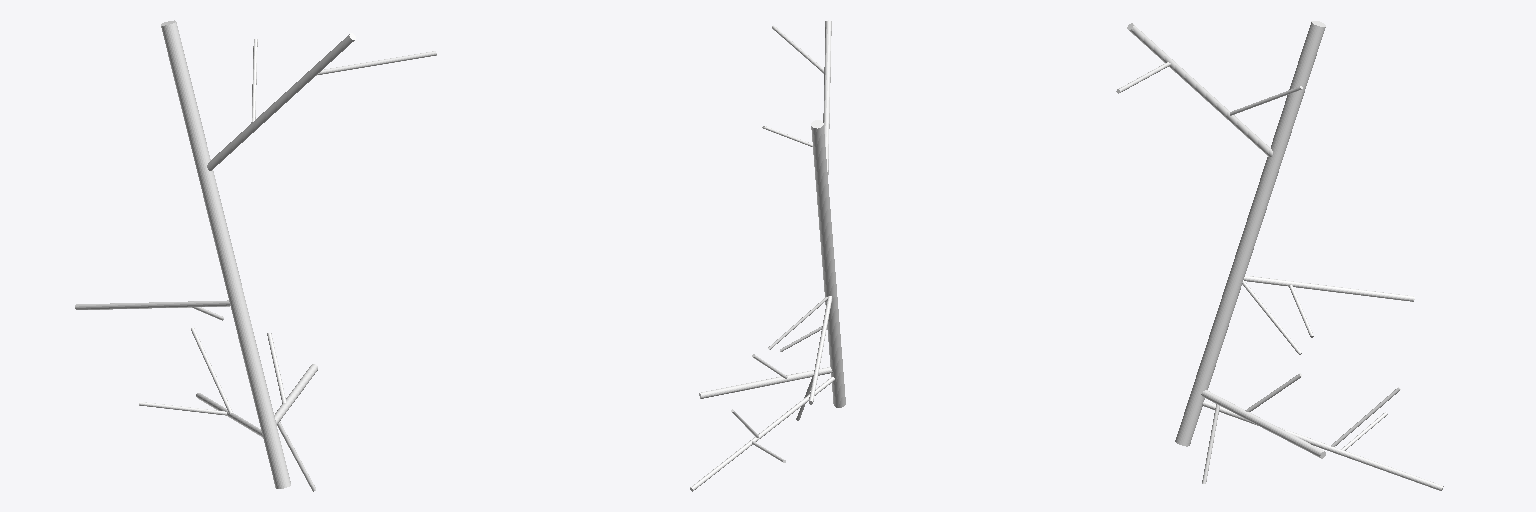
URDF robot description (tree_6.urdf):
<?xml version='1.0' encoding='UTF-8'?>
<robot name="tree_6.urdf">
  <link name="branch_0">
    <inertial>
      <origin xyz="0.0 0.0 0.0" rpy="0.0 -0.0 0.0"/>
      <mass value="1.0"/>
      <inertia ixx="1.0" ixy="0.0" ixz="0.0" iyy="1.0" iyz="0.0" izz="1.0"/>
    </inertial>
    <visual name="branch_0_visual">
      <geometry>
        <cylinder radius="0.1608283984455779" length="9.734576314490607"/>
      </geometry>
      <material name="branch_material"/>
      <origin xyz="-0.4961146037879636 1.4298258032563012 4.626009346932966" rpy="-1.3877787807814457e-17 0.31618527720153833 1.9047742276952224"/>
    </visual>
    <collision name="branch_0_collision">
      <geometry>
        <cylinder radius="0.1608283984455779" length="9.734576314490607"/>
      </geometry>
      <origin xyz="-0.4961146037879636 1.4298258032563012 4.626009346932966" rpy="-1.3877787807814457e-17 0.31618527720153833 1.9047742276952224"/>
    </collision>
  </link>
  <link name="branch_1">
    <inertial>
      <origin xyz="0.0 0.0 0.0" rpy="0.0 -0.0 0.0"/>
      <mass value="1.0"/>
      <inertia ixx="1.0" ixy="0.0" ixz="0.0" iyy="1.0" iyz="0.0" izz="1.0"/>
    </inertial>
    <visual name="branch_1_visual">
      <geometry>
        <cylinder radius="0.06062844235902978" length="4.209955104890477"/>
      </geometry>
      <material name="branch_material"/>
      <origin xyz="0.0 0.0 0.0" rpy="0.0 -0.0 0.0"/>
    </visual>
    <collision name="branch_1_collision">
      <geometry>
        <cylinder radius="0.06062844235902978" length="4.209955104890477"/>
      </geometry>
      <origin xyz="0.0 0.0 0.0" rpy="0.0 -0.0 0.0"/>
    </collision>
  </link>
  <link name="branch_2">
    <inertial>
      <origin xyz="0.0 0.0 0.0" rpy="0.0 -0.0 0.0"/>
      <mass value="1.0"/>
      <inertia ixx="1.0" ixy="0.0" ixz="0.0" iyy="1.0" iyz="0.0" izz="1.0"/>
    </inertial>
    <visual name="branch_2_visual">
      <geometry>
        <cylinder radius="0.04" length="1.356113058148896"/>
      </geometry>
      <material name="branch_material"/>
      <origin xyz="0.0 0.0 0.0" rpy="0.0 -0.0 0.0"/>
    </visual>
    <collision name="branch_2_collision">
      <geometry>
        <cylinder radius="0.04" length="1.356113058148896"/>
      </geometry>
      <origin xyz="0.0 0.0 0.0" rpy="0.0 -0.0 0.0"/>
    </collision>
  </link>
  <link name="branch_3">
    <inertial>
      <origin xyz="0.0 0.0 0.0" rpy="0.0 -0.0 0.0"/>
      <mass value="1.0"/>
      <inertia ixx="1.0" ixy="0.0" ixz="0.0" iyy="1.0" iyz="0.0" izz="1.0"/>
    </inertial>
    <visual name="branch_3_visual">
      <geometry>
        <cylinder radius="0.04" length="2.101444616784861"/>
      </geometry>
      <material name="branch_material"/>
      <origin xyz="0.0 0.0 0.0" rpy="0.0 -0.0 0.0"/>
    </visual>
    <collision name="branch_3_collision">
      <geometry>
        <cylinder radius="0.04" length="2.101444616784861"/>
      </geometry>
      <origin xyz="0.0 0.0 0.0" rpy="0.0 -0.0 0.0"/>
    </collision>
  </link>
  <link name="branch_4">
    <inertial>
      <origin xyz="0.0 0.0 0.0" rpy="0.0 -0.0 0.0"/>
      <mass value="1.0"/>
      <inertia ixx="1.0" ixy="0.0" ixz="0.0" iyy="1.0" iyz="0.0" izz="1.0"/>
    </inertial>
    <visual name="branch_4_visual">
      <geometry>
        <cylinder radius="0.08116138452471643" length="5.128200156553887"/>
      </geometry>
      <material name="branch_material"/>
      <origin xyz="0.0 0.0 0.0" rpy="0.0 -0.0 0.0"/>
    </visual>
    <collision name="branch_4_collision">
      <geometry>
        <cylinder radius="0.08116138452471643" length="5.128200156553887"/>
      </geometry>
      <origin xyz="0.0 0.0 0.0" rpy="0.0 -0.0 0.0"/>
    </collision>
  </link>
  <link name="branch_5">
    <inertial>
      <origin xyz="0.0 0.0 0.0" rpy="0.0 -0.0 0.0"/>
      <mass value="1.0"/>
      <inertia ixx="1.0" ixy="0.0" ixz="0.0" iyy="1.0" iyz="0.0" izz="1.0"/>
    </inertial>
    <visual name="branch_5_visual">
      <geometry>
        <cylinder radius="0.04" length="2.1039477336618075"/>
      </geometry>
      <material name="branch_material"/>
      <origin xyz="0.0 0.0 0.0" rpy="0.0 -0.0 0.0"/>
    </visual>
    <collision name="branch_5_collision">
      <geometry>
        <cylinder radius="0.04" length="2.1039477336618075"/>
      </geometry>
      <origin xyz="0.0 0.0 0.0" rpy="0.0 -0.0 0.0"/>
    </collision>
  </link>
  <link name="branch_6">
    <inertial>
      <origin xyz="0.0 0.0 0.0" rpy="0.0 -0.0 0.0"/>
      <mass value="1.0"/>
      <inertia ixx="1.0" ixy="0.0" ixz="0.0" iyy="1.0" iyz="0.0" izz="1.0"/>
    </inertial>
    <visual name="branch_6_visual">
      <geometry>
        <cylinder radius="0.046905329725305527" length="2.5132590105739627"/>
      </geometry>
      <material name="branch_material"/>
      <origin xyz="0.0 0.0 0.0" rpy="0.0 -0.0 0.0"/>
    </visual>
    <collision name="branch_6_collision">
      <geometry>
        <cylinder radius="0.046905329725305527" length="2.5132590105739627"/>
      </geometry>
      <origin xyz="0.0 0.0 0.0" rpy="0.0 -0.0 0.0"/>
    </collision>
  </link>
  <link name="branch_7">
    <inertial>
      <origin xyz="0.0 0.0 0.0" rpy="0.0 -0.0 0.0"/>
      <mass value="1.0"/>
      <inertia ixx="1.0" ixy="0.0" ixz="0.0" iyy="1.0" iyz="0.0" izz="1.0"/>
    </inertial>
    <visual name="branch_7_visual">
      <geometry>
        <cylinder radius="0.08354199693159614" length="3.6362954872447584"/>
      </geometry>
      <material name="branch_material"/>
      <origin xyz="0.0 0.0 0.0" rpy="0.0 -0.0 0.0"/>
    </visual>
    <collision name="branch_7_collision">
      <geometry>
        <cylinder radius="0.08354199693159614" length="3.6362954872447584"/>
      </geometry>
      <origin xyz="0.0 0.0 0.0" rpy="0.0 -0.0 0.0"/>
    </collision>
  </link>
  <link name="branch_8">
    <inertial>
      <origin xyz="0.0 0.0 0.0" rpy="0.0 -0.0 0.0"/>
      <mass value="1.0"/>
      <inertia ixx="1.0" ixy="0.0" ixz="0.0" iyy="1.0" iyz="0.0" izz="1.0"/>
    </inertial>
    <visual name="branch_8_visual">
      <geometry>
        <cylinder radius="0.043903212722607825" length="1.7687678297567897"/>
      </geometry>
      <material name="branch_material"/>
      <origin xyz="0.0 0.0 0.0" rpy="0.0 -0.0 0.0"/>
    </visual>
    <collision name="branch_8_collision">
      <geometry>
        <cylinder radius="0.043903212722607825" length="1.7687678297567897"/>
      </geometry>
      <origin xyz="0.0 0.0 0.0" rpy="0.0 -0.0 0.0"/>
    </collision>
  </link>
  <link name="branch_9">
    <inertial>
      <origin xyz="0.0 0.0 0.0" rpy="0.0 -0.0 0.0"/>
      <mass value="1.0"/>
      <inertia ixx="1.0" ixy="0.0" ixz="0.0" iyy="1.0" iyz="0.0" izz="1.0"/>
    </inertial>
    <visual name="branch_9_visual">
      <geometry>
        <cylinder radius="0.045248686271037834" length="1.6228817295243358"/>
      </geometry>
      <material name="branch_material"/>
      <origin xyz="0.0 0.0 0.0" rpy="0.0 -0.0 0.0"/>
    </visual>
    <collision name="branch_9_collision">
      <geometry>
        <cylinder radius="0.045248686271037834" length="1.6228817295243358"/>
      </geometry>
      <origin xyz="0.0 0.0 0.0" rpy="0.0 -0.0 0.0"/>
    </collision>
  </link>
  <link name="branch_10">
    <inertial>
      <origin xyz="0.0 0.0 0.0" rpy="0.0 -0.0 0.0"/>
      <mass value="1.0"/>
      <inertia ixx="1.0" ixy="0.0" ixz="0.0" iyy="1.0" iyz="0.0" izz="1.0"/>
    </inertial>
    <visual name="branch_10_visual">
      <geometry>
        <cylinder radius="0.06063546841153954" length="5.51865027542374"/>
      </geometry>
      <material name="branch_material"/>
      <origin xyz="0.0 0.0 0.0" rpy="0.0 -0.0 0.0"/>
    </visual>
    <collision name="branch_10_collision">
      <geometry>
        <cylinder radius="0.06063546841153954" length="5.51865027542374"/>
      </geometry>
      <origin xyz="0.0 0.0 0.0" rpy="0.0 -0.0 0.0"/>
    </collision>
  </link>
  <link name="branch_11">
    <inertial>
      <origin xyz="0.0 0.0 0.0" rpy="0.0 -0.0 0.0"/>
      <mass value="1.0"/>
      <inertia ixx="1.0" ixy="0.0" ixz="0.0" iyy="1.0" iyz="0.0" izz="1.0"/>
    </inertial>
    <visual name="branch_11_visual">
      <geometry>
        <cylinder radius="0.04" length="1.7995088704729048"/>
      </geometry>
      <material name="branch_material"/>
      <origin xyz="0.0 0.0 0.0" rpy="0.0 -0.0 0.0"/>
    </visual>
    <collision name="branch_11_collision">
      <geometry>
        <cylinder radius="0.04" length="1.7995088704729048"/>
      </geometry>
      <origin xyz="0.0 0.0 0.0" rpy="0.0 -0.0 0.0"/>
    </collision>
  </link>
  <link name="branch_12">
    <inertial>
      <origin xyz="0.0 0.0 0.0" rpy="0.0 -0.0 0.0"/>
      <mass value="1.0"/>
      <inertia ixx="1.0" ixy="0.0" ixz="0.0" iyy="1.0" iyz="0.0" izz="1.0"/>
    </inertial>
    <visual name="branch_12_visual">
      <geometry>
        <cylinder radius="0.04" length="1.9887768254569558"/>
      </geometry>
      <material name="branch_material"/>
      <origin xyz="0.0 0.0 0.0" rpy="0.0 -0.0 0.0"/>
    </visual>
    <collision name="branch_12_collision">
      <geometry>
        <cylinder radius="0.04" length="1.9887768254569558"/>
      </geometry>
      <origin xyz="0.0 0.0 0.0" rpy="0.0 -0.0 0.0"/>
    </collision>
  </link>
  <joint name="joint_0_1" type="fixed">
    <parent link="branch_0"/>
    <child link="branch_1"/>
    <axis xyz="1. 0. 0."/>
    <origin xyz="-1.1696554495322828 2.988903167446083 3.046671355840766" rpy="3.0782501040496655 1.2741141522378976 -1.2407960228477224"/>
  </joint>
  <joint name="joint_0_4" type="fixed">
    <parent link="branch_0"/>
    <child link="branch_4"/>
    <axis xyz="1. 0. 0."/>
    <origin xyz="0.1408729514891609 0.4274271998630466 8.197194416720338" rpy="-0.05154937022524289 0.7366680759252435 -1.1544564635446004"/>
  </joint>
  <joint name="joint_0_7" type="fixed">
    <parent link="branch_0"/>
    <child link="branch_7"/>
    <axis xyz="1. 0. 0."/>
    <origin xyz="1.140736926786908 1.6548201201271275 1.0041395996092866" rpy="-1.866751658927541 1.2763926711696991 -1.0568279440857282"/>
  </joint>
  <joint name="joint_0_10" type="fixed">
    <parent link="branch_0"/>
    <child link="branch_10"/>
    <axis xyz="1. 0. 0."/>
    <origin xyz="0.5535976204427574 2.8740279551571306 0.2250156979863116" rpy="-2.5740840581209565 1.25859765442474 -1.228665650251958"/>
  </joint>
  <joint name="joint_1_2" type="fixed">
    <parent link="branch_0"/>
    <child link="branch_2"/>
    <axis xyz="1. 0. 0."/>
    <origin xyz="-0.3449690840715326 2.486632608900631 2.919509903099291" rpy="-2.163095903746344 -0.1940009056203867 -1.0117495162233736"/>
  </joint>
  <joint name="joint_1_3" type="fixed">
    <parent link="branch_0"/>
    <child link="branch_3"/>
    <axis xyz="1. 0. 0."/>
    <origin xyz="0.12343625411628627 1.8355785856000502 3.0093302774890875" rpy="-2.215191474737906 0.02680853315093155 -0.7213263754674027"/>
  </joint>
  <joint name="joint_4_5" type="fixed">
    <parent link="branch_0"/>
    <child link="branch_5"/>
    <axis xyz="1. 0. 0."/>
    <origin xyz="0.3293348604696904 1.727901871491578 8.073938196546353" rpy="0.7775012038809532 0.7739142861348068 1.9750715242259091"/>
  </joint>
  <joint name="joint_4_6" type="fixed">
    <parent link="branch_0"/>
    <child link="branch_6"/>
    <axis xyz="1. 0. 0."/>
    <origin xyz="1.620450634869498 -0.7981429286233082 9.232544202267743" rpy="1.284460402486128 1.0090808210034028 0.8703031458642421"/>
  </joint>
  <joint name="joint_7_8" type="fixed">
    <parent link="branch_0"/>
    <child link="branch_8"/>
    <axis xyz="1. 0. 0."/>
    <origin xyz="0.6204466088099608 0.6068685840372109 0.31279056545782735" rpy="-2.7096974638656457 0.12223169232151572 -2.248771992731038"/>
  </joint>
  <joint name="joint_7_9" type="fixed">
    <parent link="branch_0"/>
    <child link="branch_9"/>
    <axis xyz="1. 0. 0."/>
    <origin xyz="0.944034915733765 1.8864946807305571 1.572279500659379" rpy="0.6266335639064096 -0.6463327846842092 -2.7098726586252706"/>
  </joint>
  <joint name="joint_10_11" type="fixed">
    <parent link="branch_0"/>
    <child link="branch_11"/>
    <axis xyz="1. 0. 0."/>
    <origin xyz="-0.08980924603975517 3.7955624204113017 0.19874265806498834" rpy="1.4586386897632098 -0.3039758014874055 -2.102378240450615"/>
  </joint>
  <joint name="joint_10_12" type="fixed">
    <parent link="branch_0"/>
    <child link="branch_12"/>
    <axis xyz="1. 0. 0."/>
    <origin xyz="0.570176400700755 3.825477461940409 0.8394969081296644" rpy="0.3443513525536662 -0.7632894174103809 -1.9943905136197257"/>
  </joint>
  <material name="branch_material">
    <color rgba="1. 1. 1. 1."/>
  </material>
</robot>

--- Render facts (derived) ---
3 views of the same robot in one strip: view 1: azimuth 30°, elevation 25°; view 2: azimuth 150°, elevation 25°; view 3: azimuth 270°, elevation 25° (orthographic).
Model tree_6.urdf with 13 links and 12 joints (12 fixed), rooted at branch_0, posed every joint at zero.
Links seen in each view (by area): view 1: branch_0, branch_4, branch_1, branch_6, branch_7; view 2: branch_0, branch_7, branch_4, branch_10; view 3: branch_0, branch_4, branch_10, branch_7, branch_1.
Boxes of the visible links, x1,y1,x2,y2 form: branch_0: (161,20,290,488); branch_4: (207,33,355,170); branch_1: (75,300,229,309); branch_6: (316,51,436,75); branch_7: (274,364,317,424); branch_0: (811,120,845,407); branch_7: (699,367,832,398); branch_4: (823,20,831,174); branch_10: (690,377,834,491); branch_0: (1175,21,1325,446); branch_4: (1127,23,1272,156); branch_10: (1202,401,1443,490); branch_7: (1201,390,1325,458); branch_1: (1244,276,1414,301).
Size in the robot's own frame: 4.76 by 6.87 by 10.7 metres.
Geometry: primitives only (box / cylinder / sphere), no mesh files.